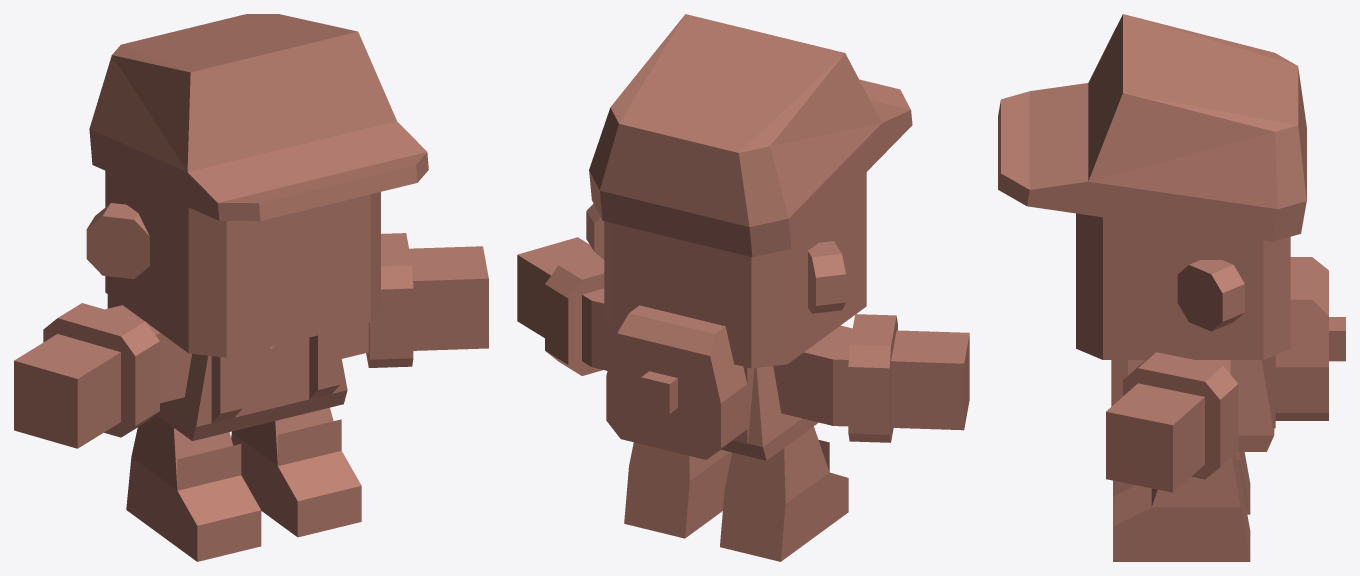
File: character-gamer.obj
The picture shows the model from 3 angles, left to right: view 1: azimuth 30°, elevation 25°; view 2: azimuth 150°, elevation 25°; view 3: azimuth 270°, elevation 25°; orthographic projection. The views are drawn at different scales.
Bounding box in the file's own units: 0.7806 × 0.7733 × 0.5189.
